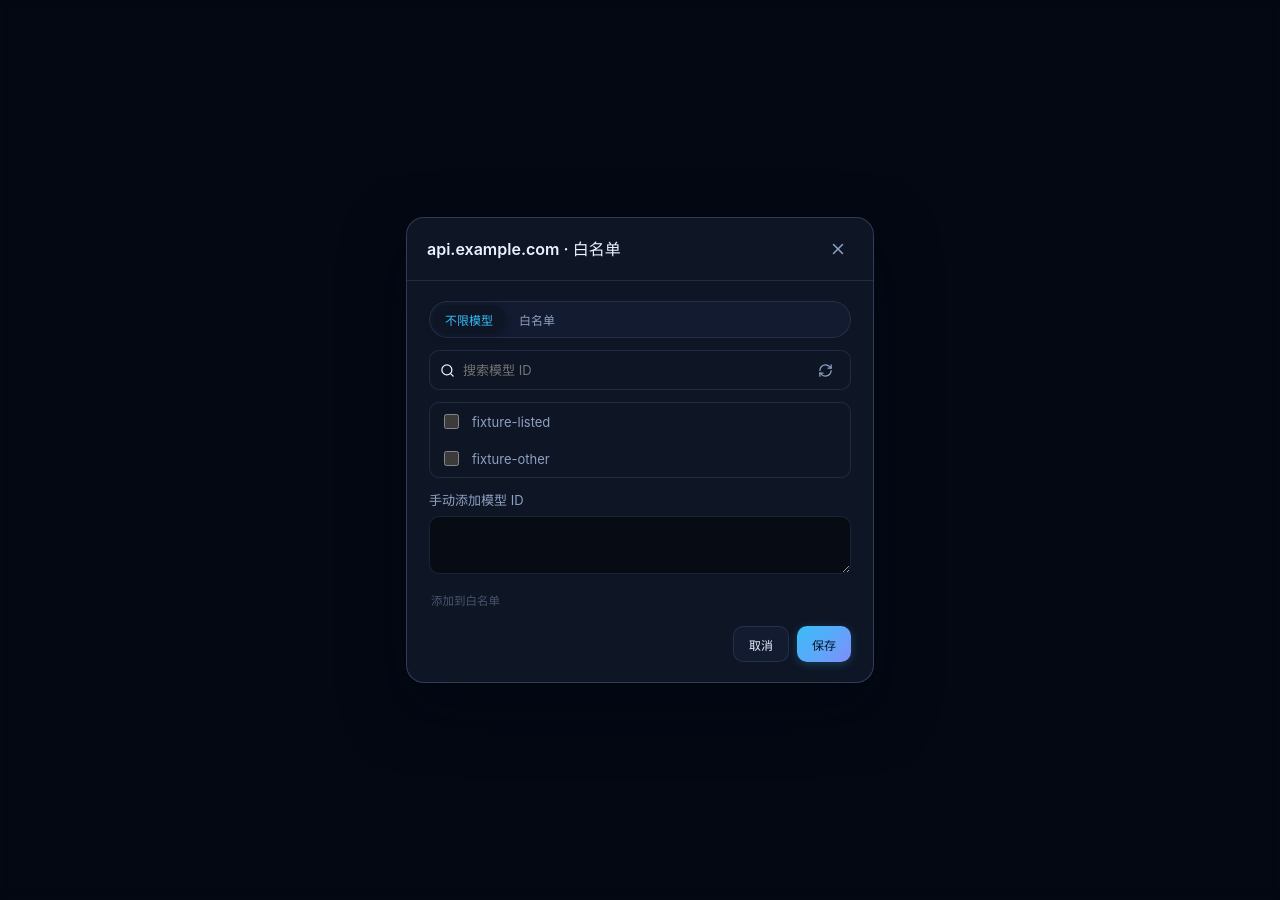
Scenario: keeps a draft when abandoning is cancelled and validates pending or wildcard models
In the text box labelled "手动添加模型 ID": (640, 545) [429,516,851,574], type "fixture-*"
Click the button "添加到白名单": (466, 601) [429,586,851,614]
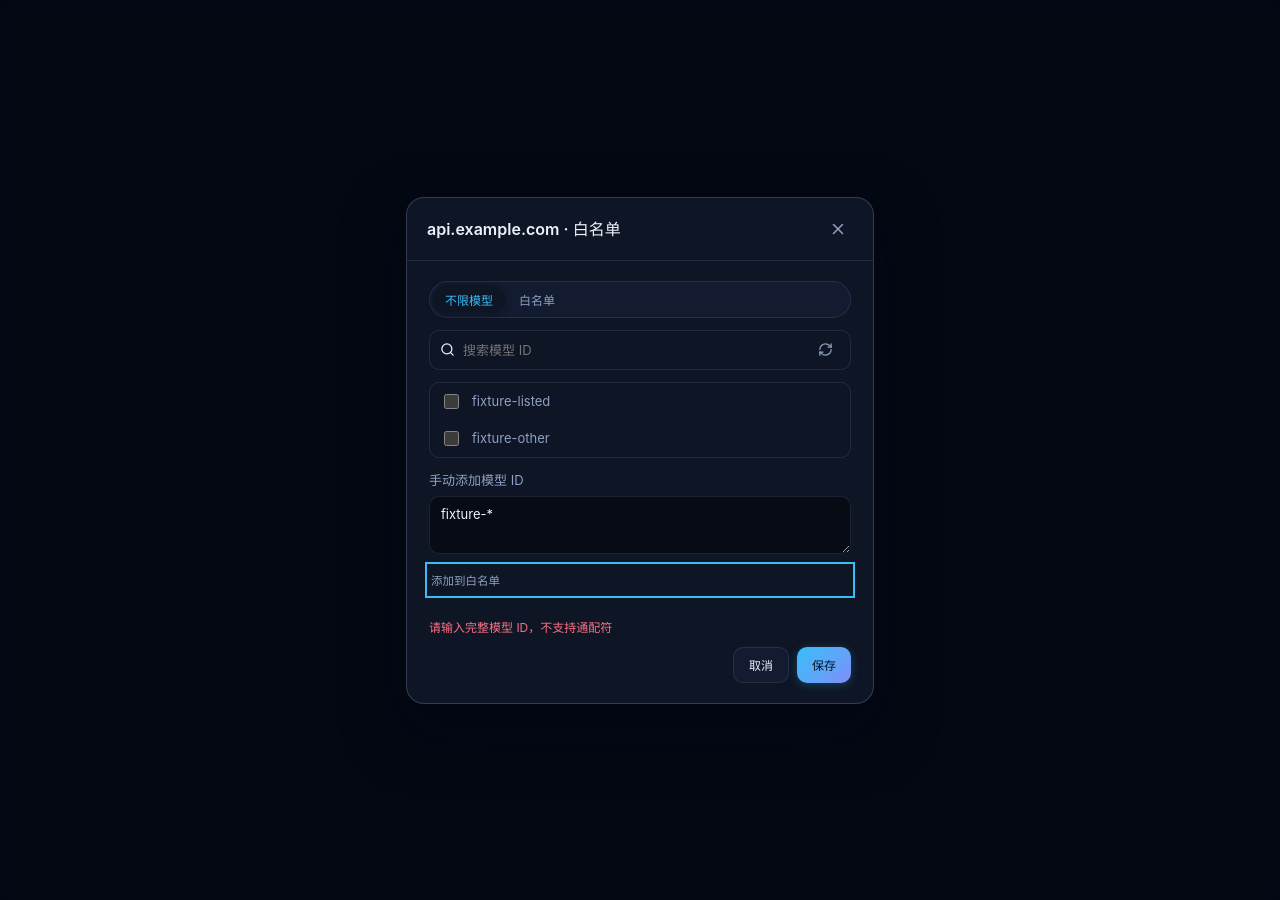
Expected: the message shows "不支持通配符", [429,620,612,634]
Click the button "取消": (761, 664) [733,646,789,682]
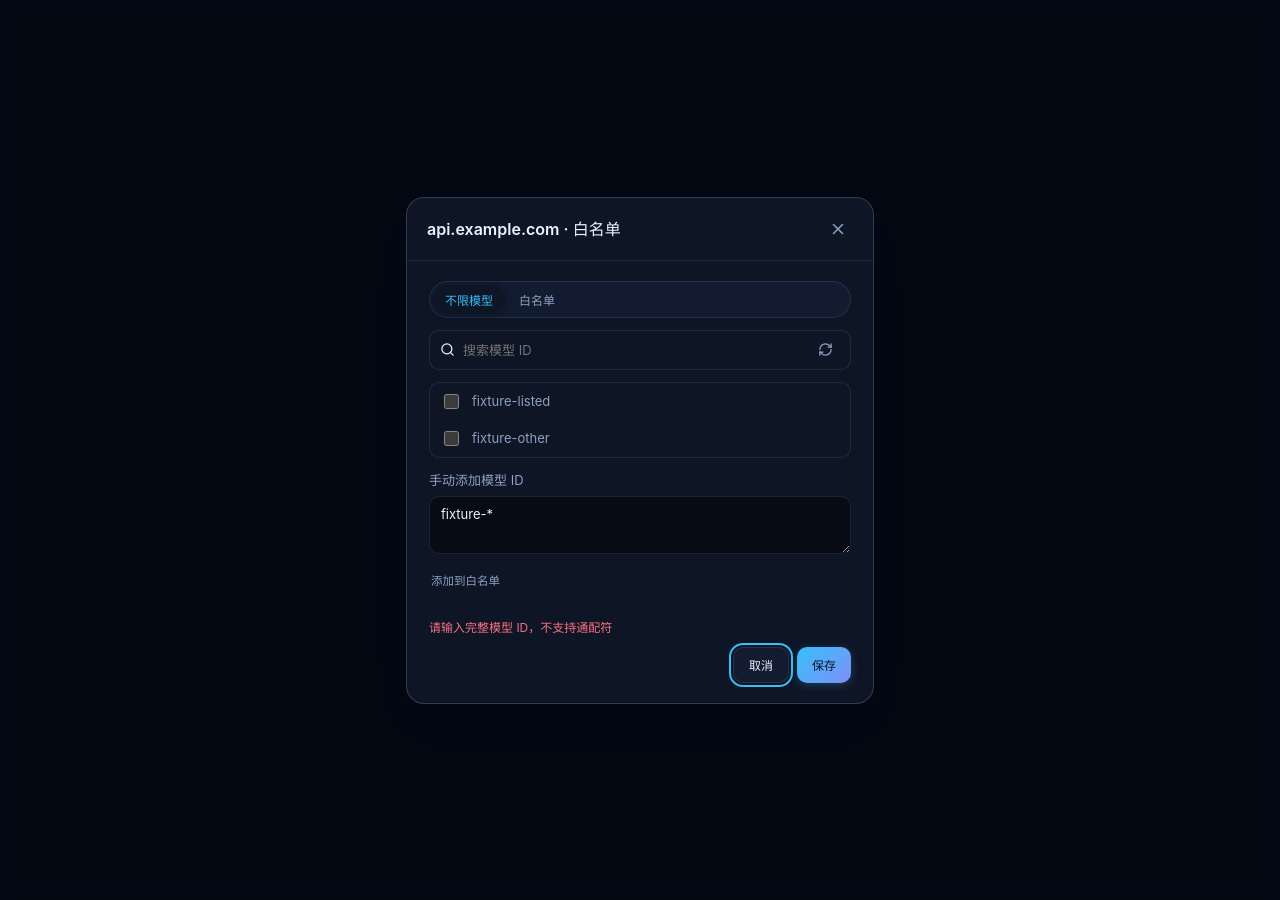
Replace the text in the text box labelled "手动添加模型 ID" with "fixture-unadded": (640, 524) [429,496,851,554]
Click the button "保存": (824, 664) [797,646,851,682]
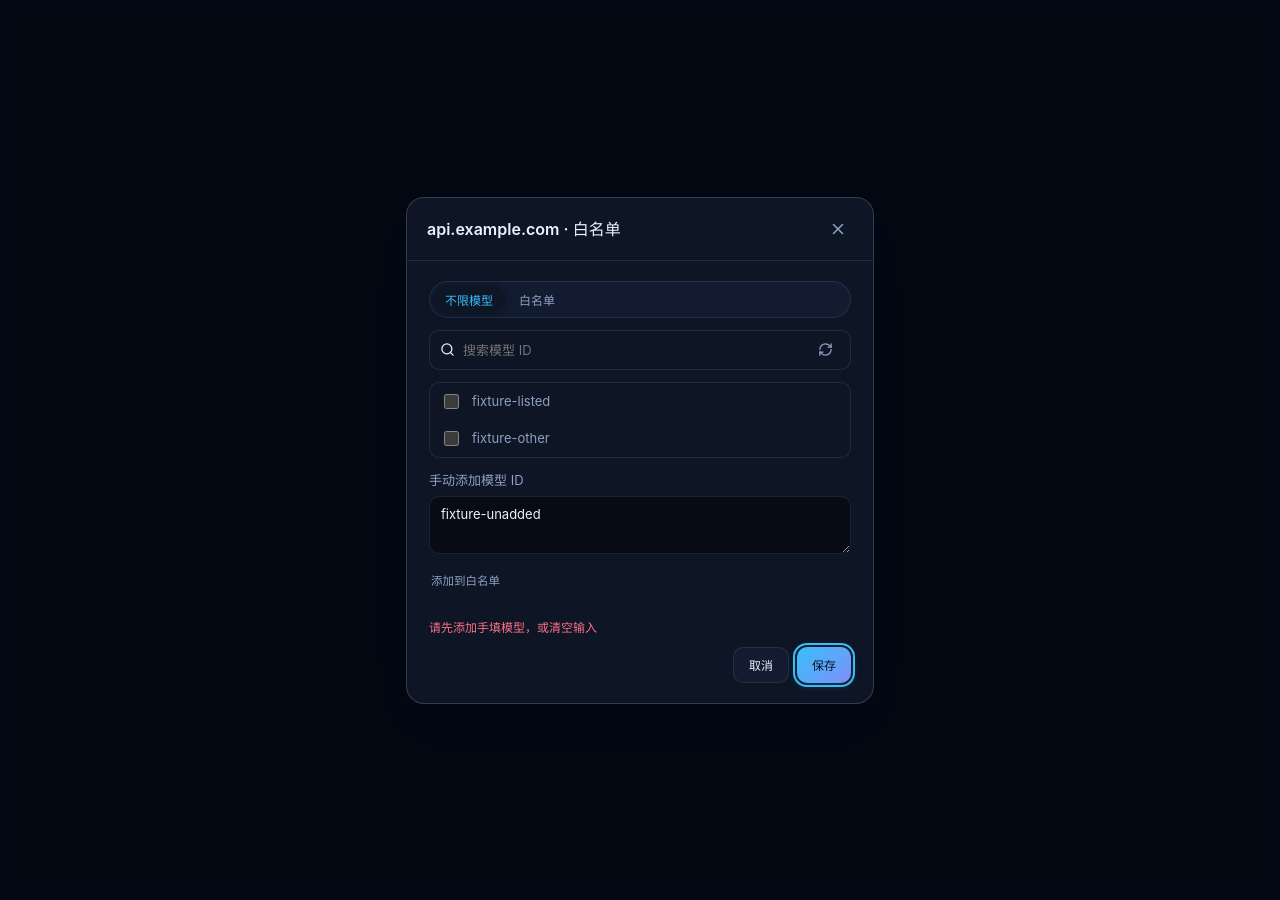
Expected: the message shows "请先添加手填模型", [429,620,597,634]
Clear the text box labelled "手动添加模型 ID": (640, 524) [429,496,851,554]
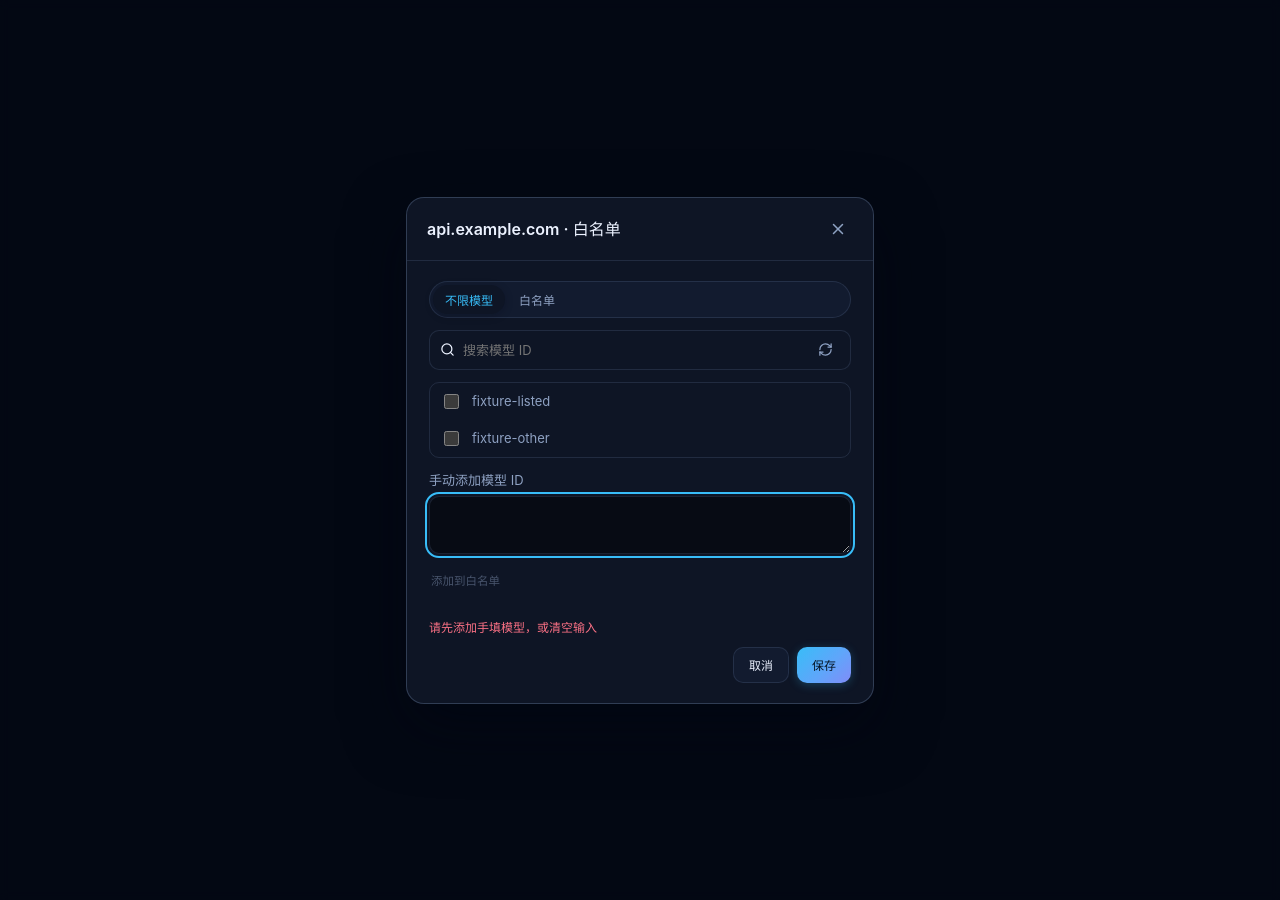
Click the button "白名单": (537, 299) [507,284,567,314]
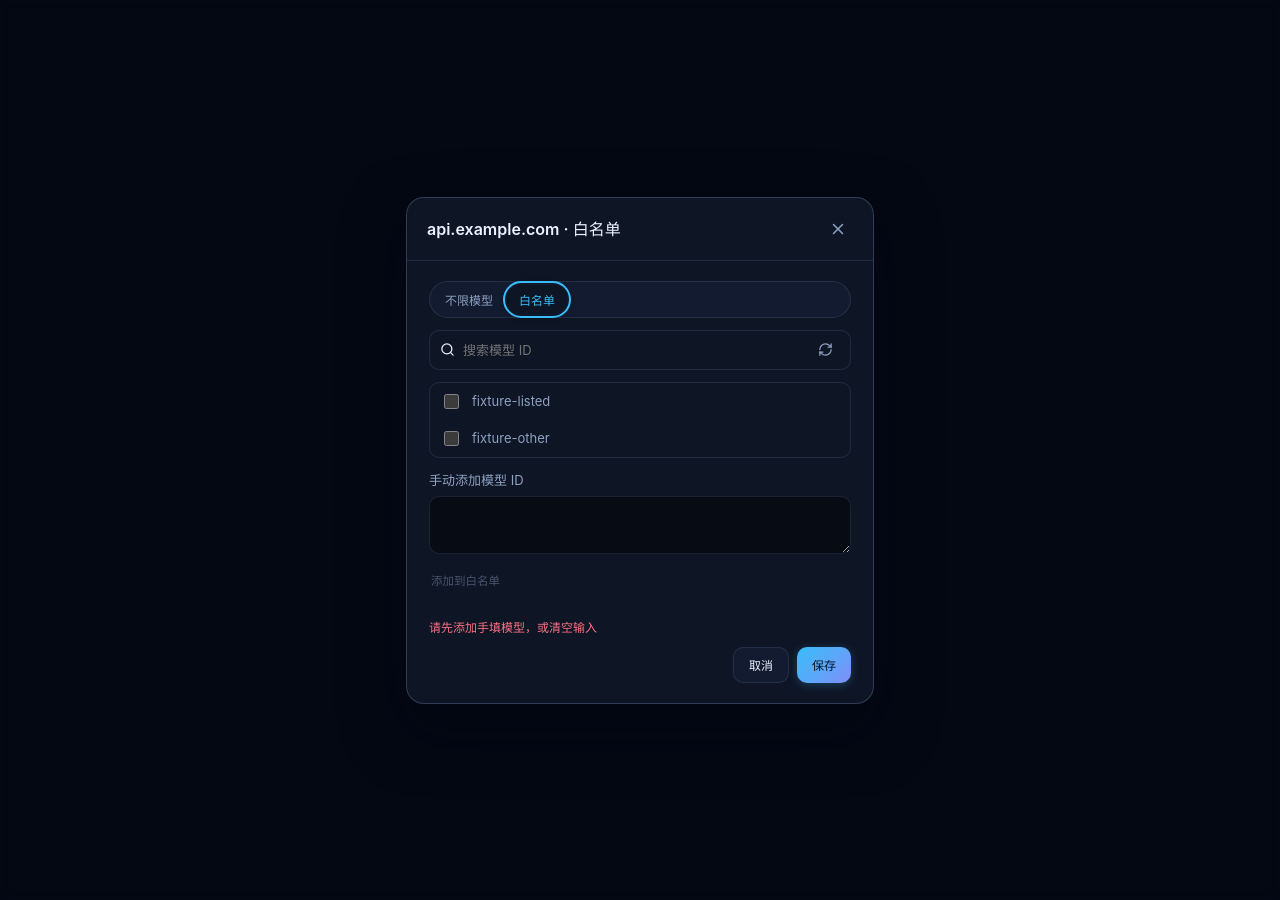
Click the button "保存": (824, 664) [797,646,851,682]
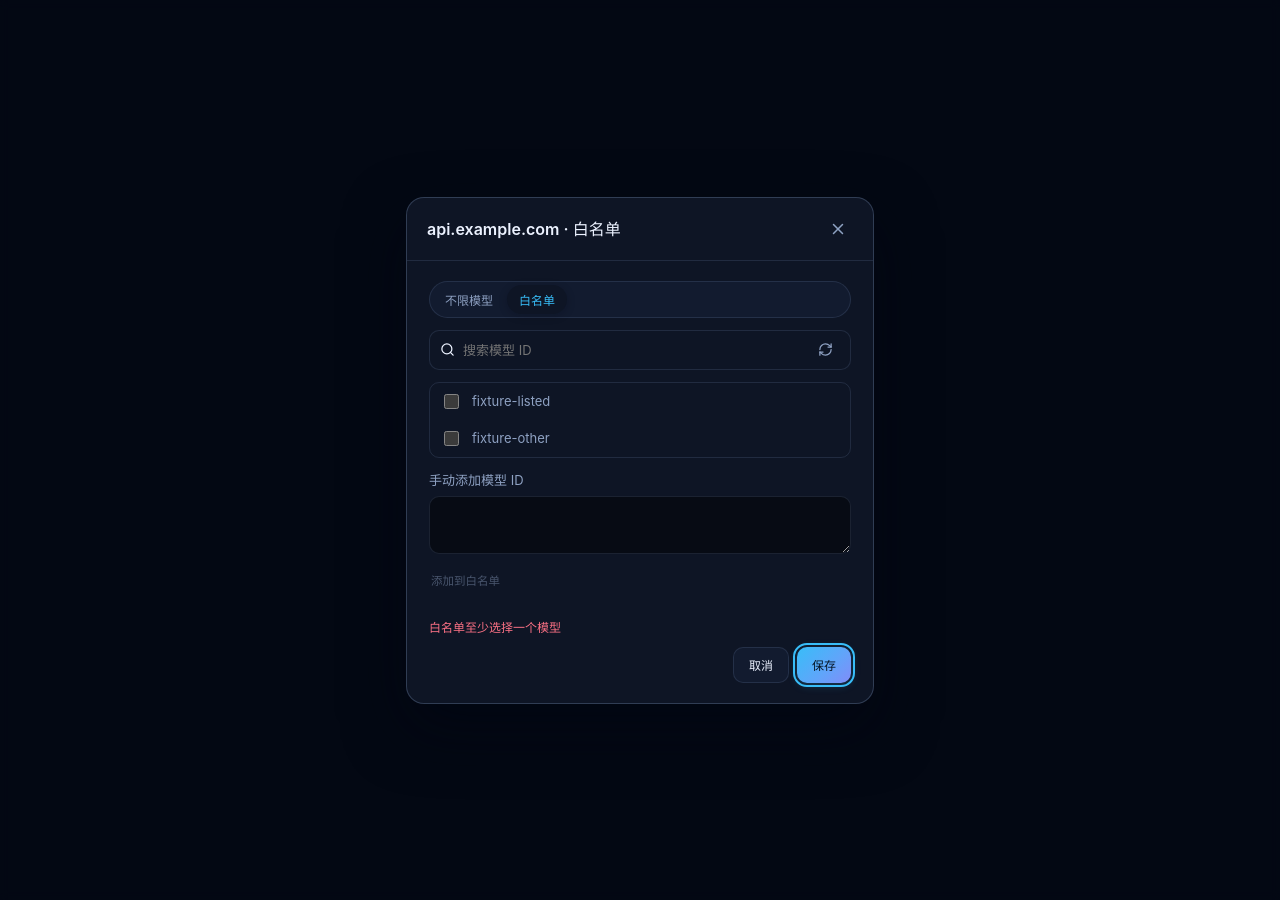
Expected: the message reads "白名单至少选择一个模型", [429,620,561,634]
